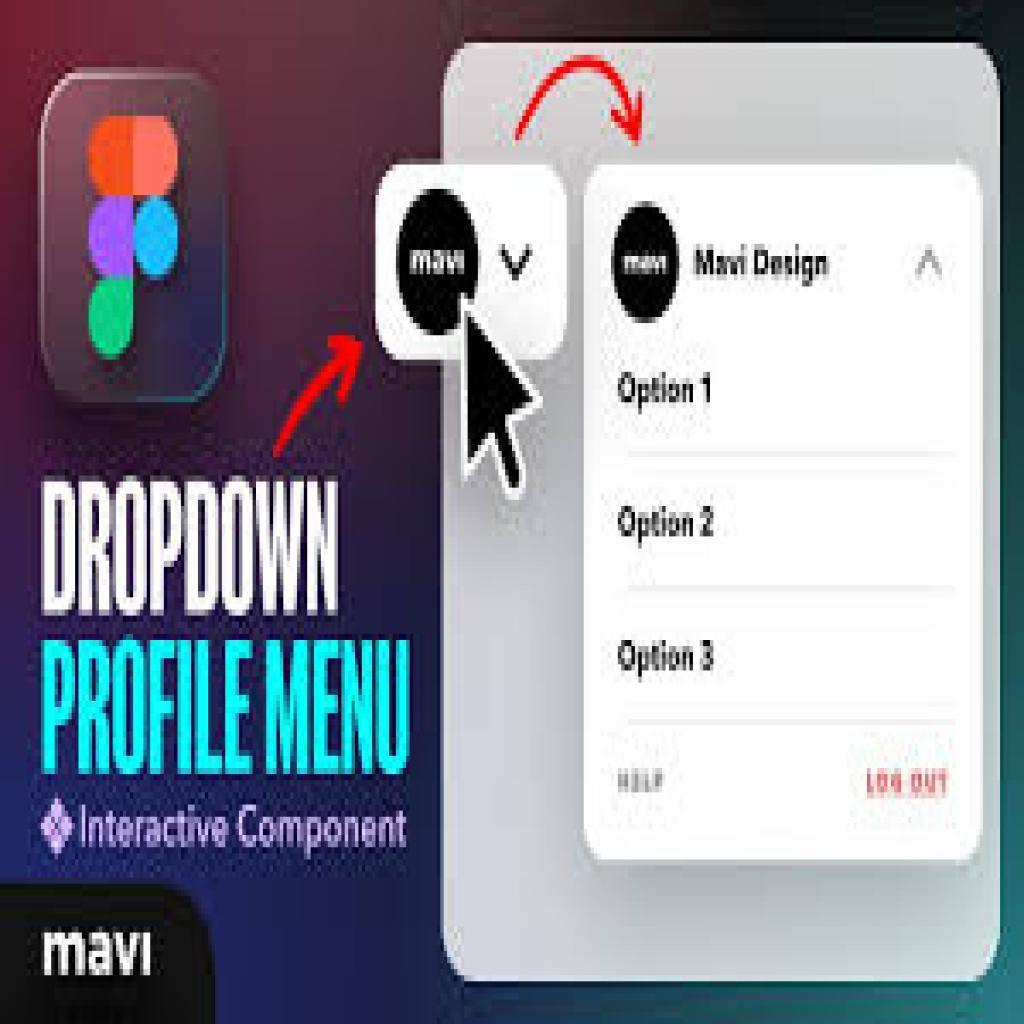dropdown: (583, 167, 985, 338)
icon: (29, 60, 255, 428)
